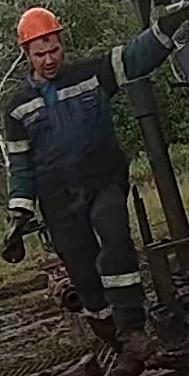gloves: (0, 198, 45, 263)
helmet: (16, 6, 64, 45)
vest: (4, 44, 124, 194)
